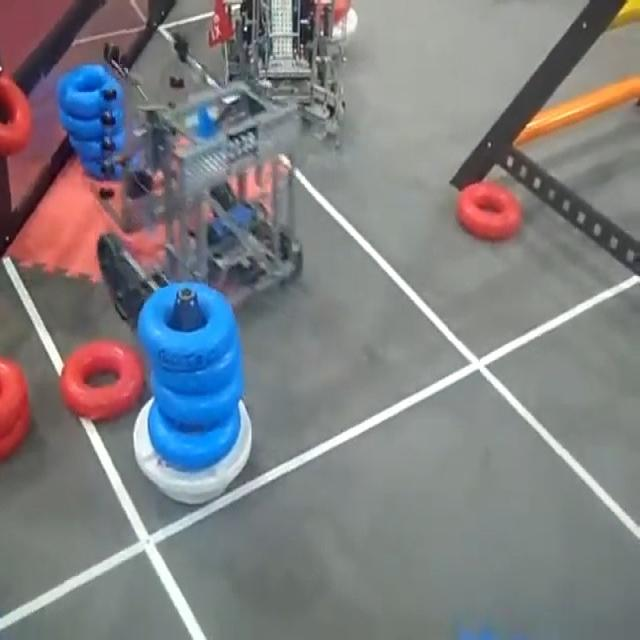Blue-Ring: (138, 283, 238, 371), (149, 402, 240, 469), (152, 367, 244, 429), (152, 342, 244, 394), (58, 65, 122, 118), (60, 109, 124, 140)
Red-Ring: (61, 340, 144, 419), (456, 182, 522, 239), (0, 75, 31, 154), (0, 358, 28, 436), (0, 407, 28, 459)
